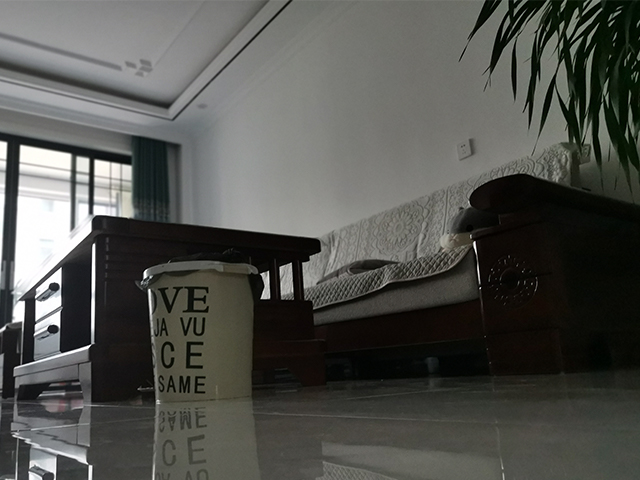sofa: (261, 140, 640, 380)
table: (8, 214, 331, 406)
trashcan: (139, 258, 261, 408)
